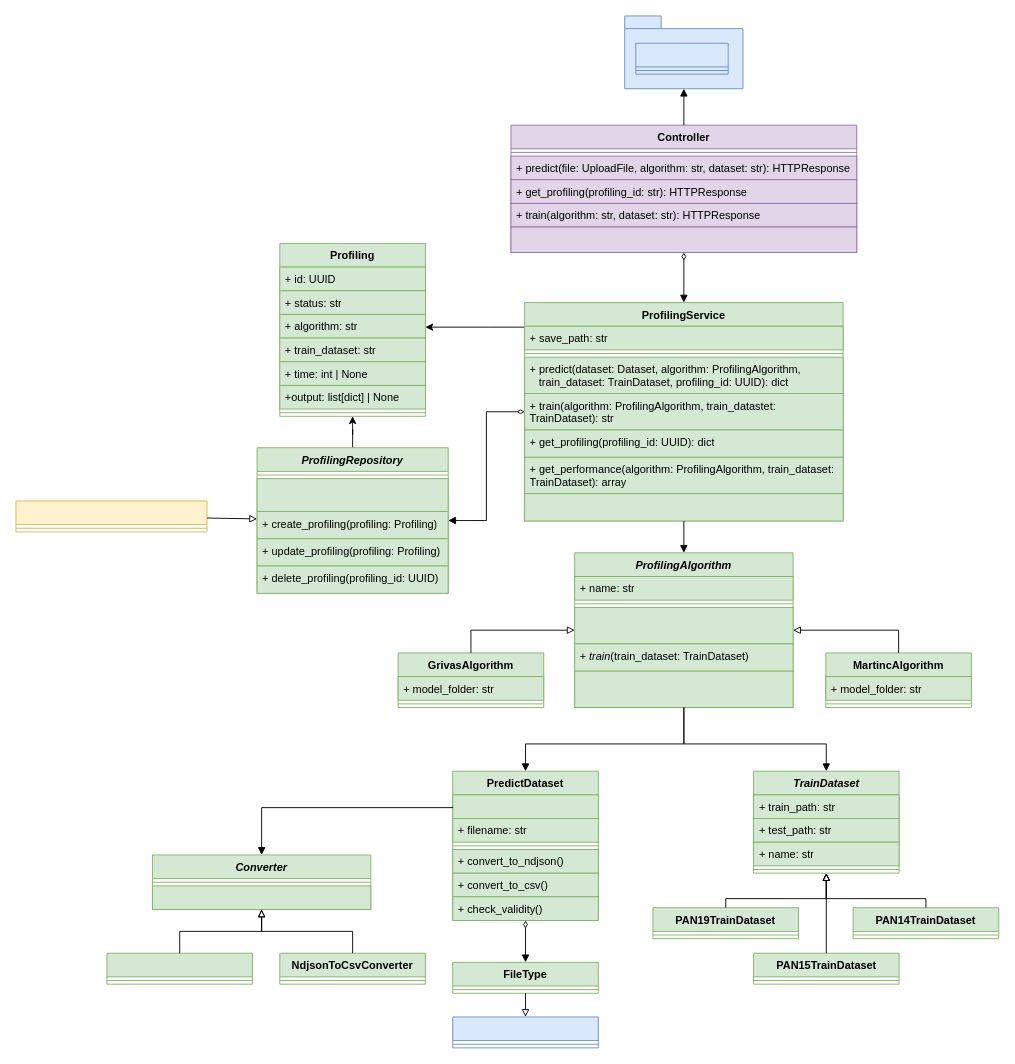
The diagram is 1015 pixels wide and 1064 high, and some of its shapes have lost their labels. Here are the shapes that lost their labels. From the top down, the centre of each, then its label:
At point 681,58: "FastAPI".
At point 683,239: "+ get_performance(algorithm: str, dataset: str): HTTPResponse".
At point 352,494: "+ get_profiling(profiling_id: UUID): Profiling".
At point 683,507: "+ get_algorithm_names(): list".
At point 111,516: "MongoProfilingRepository".
At point 683,625: "+ predict (dataset: Dataset, train_dataset: TrainDataset): dict".
At point 683,689: "+ get_performance (train_dataset: TrainDataset): dict".
At point 525,806: "+ file: IOBase".
At point 261,897: "+ convert(input_file: IOBase): StringIO".
At point 179,968: "CsvToNdjsonConverter".
At point 525,1032: "Enum".
